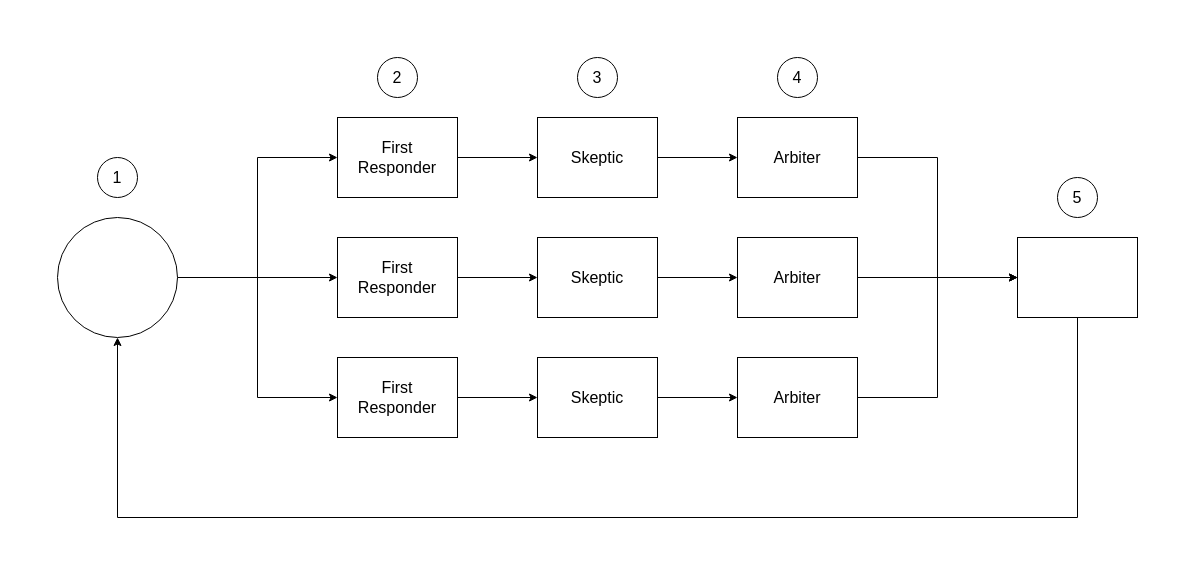
The diagram is 1194 pixels wide and 574 high, and some of its shapes have lost their labels. Each missing label, with the centre of its shape:
Judge: point (1077, 277)
Orchestrator: point (117, 277)
